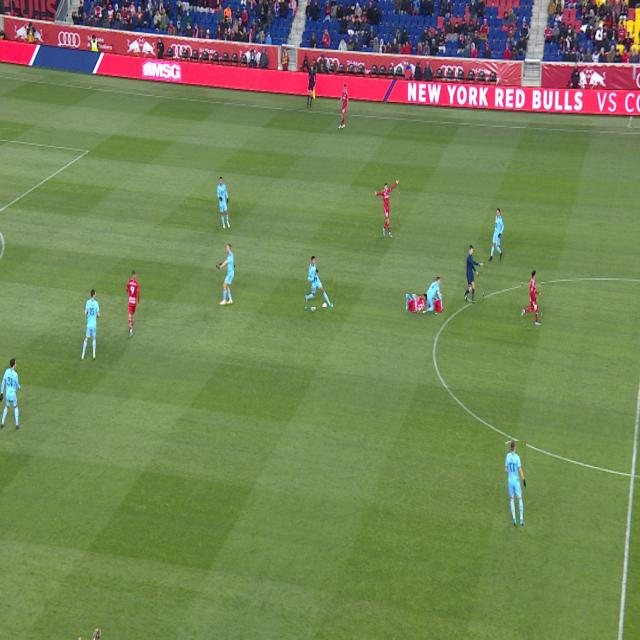football: (310, 303, 316, 313)
player: (505, 442, 526, 526), (0, 359, 21, 429), (305, 257, 333, 307), (375, 180, 399, 237), (81, 290, 100, 360), (522, 270, 541, 325), (217, 244, 234, 305), (127, 270, 140, 337), (418, 278, 442, 313), (488, 209, 504, 261), (217, 177, 230, 229), (338, 84, 348, 129), (407, 294, 427, 311), (93, 629, 100, 640), (429, 305, 434, 311)
referee: (465, 245, 483, 302)
